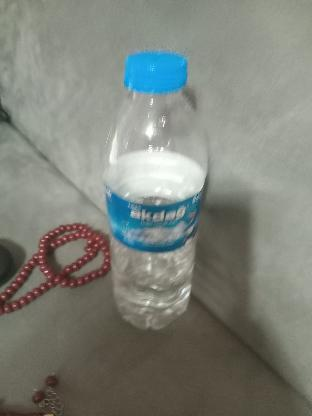Plastic Bottle: (105, 52, 203, 330)
